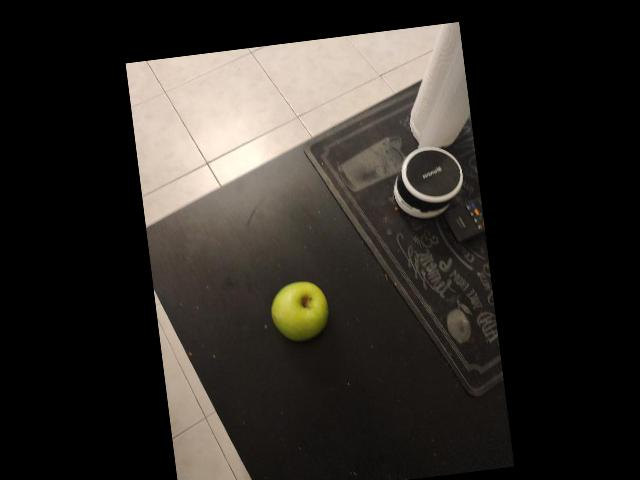apple: (167, 156, 254, 233)
